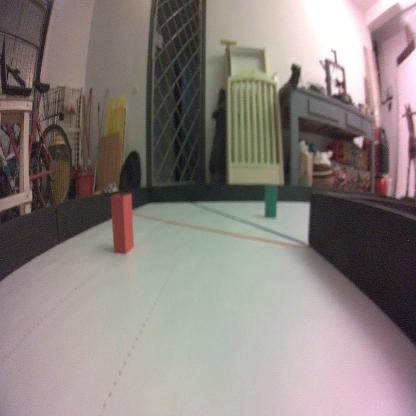green: (264, 182, 276, 217)
red: (110, 190, 135, 255)
